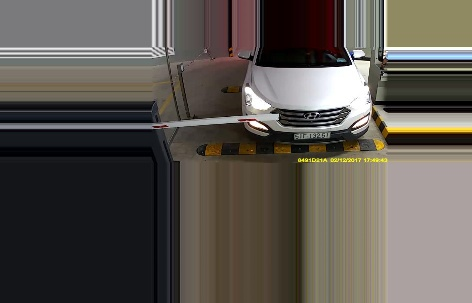plate: (294, 130, 332, 141)
